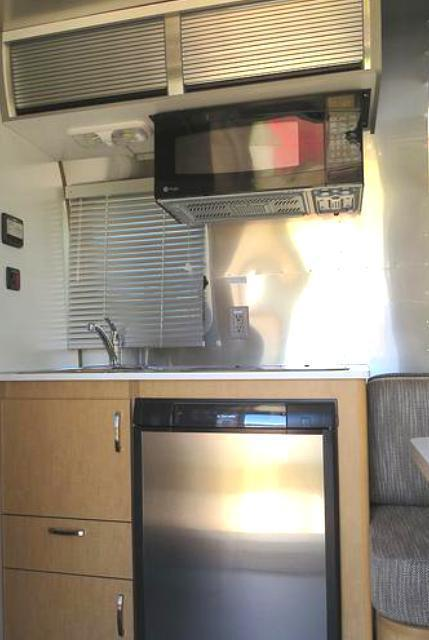Lavaplatos: (34, 311, 181, 382)
